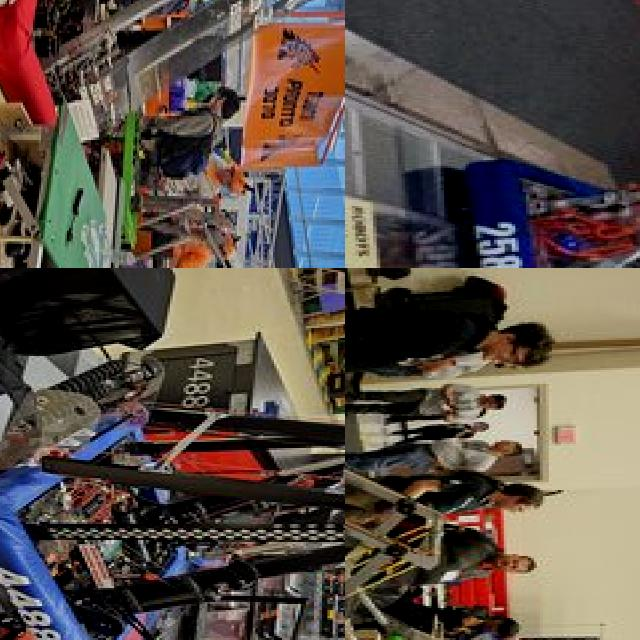FRC-Robots: (0, 337, 345, 640), (0, 0, 345, 182), (345, 384, 510, 602), (456, 109, 640, 268)
